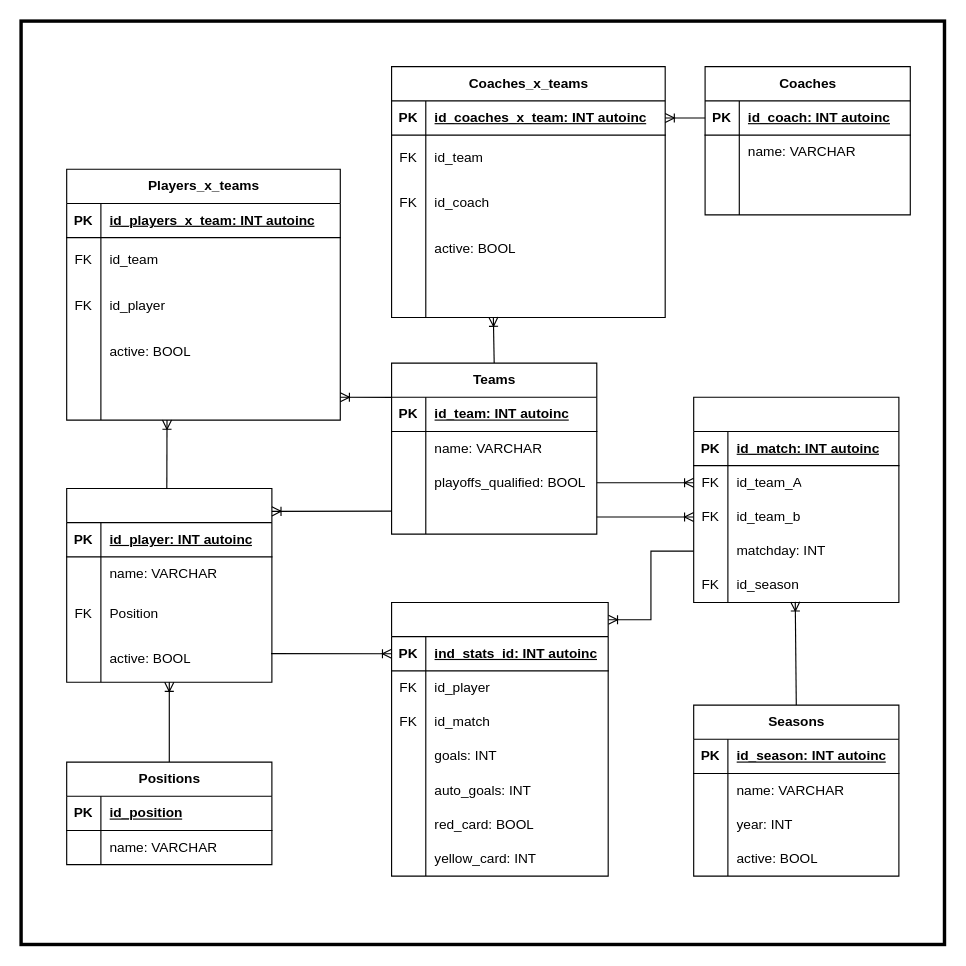
Image size: 966x966. Some labels were removed from this diagram. The shapes that lost their labels are listed below. From the top down, each one's box as (x1, y1, x2, y2) in pixels, then its label:
(693, 396, 899, 602): Matches
(66, 487, 272, 682): Players
(390, 601, 608, 876): Individual_stats_x_match
